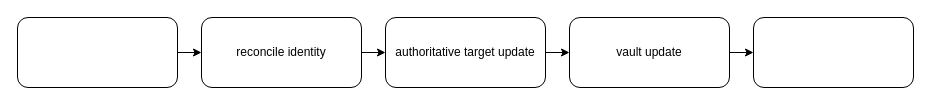
This 931x105 diagram has some shape labels left out. The box of each missing label's shape, as (x1, y1, x2, y2) in pixels:
post-rotation launch: (752, 16, 914, 88)
rotation scheduler: (16, 16, 178, 88)
